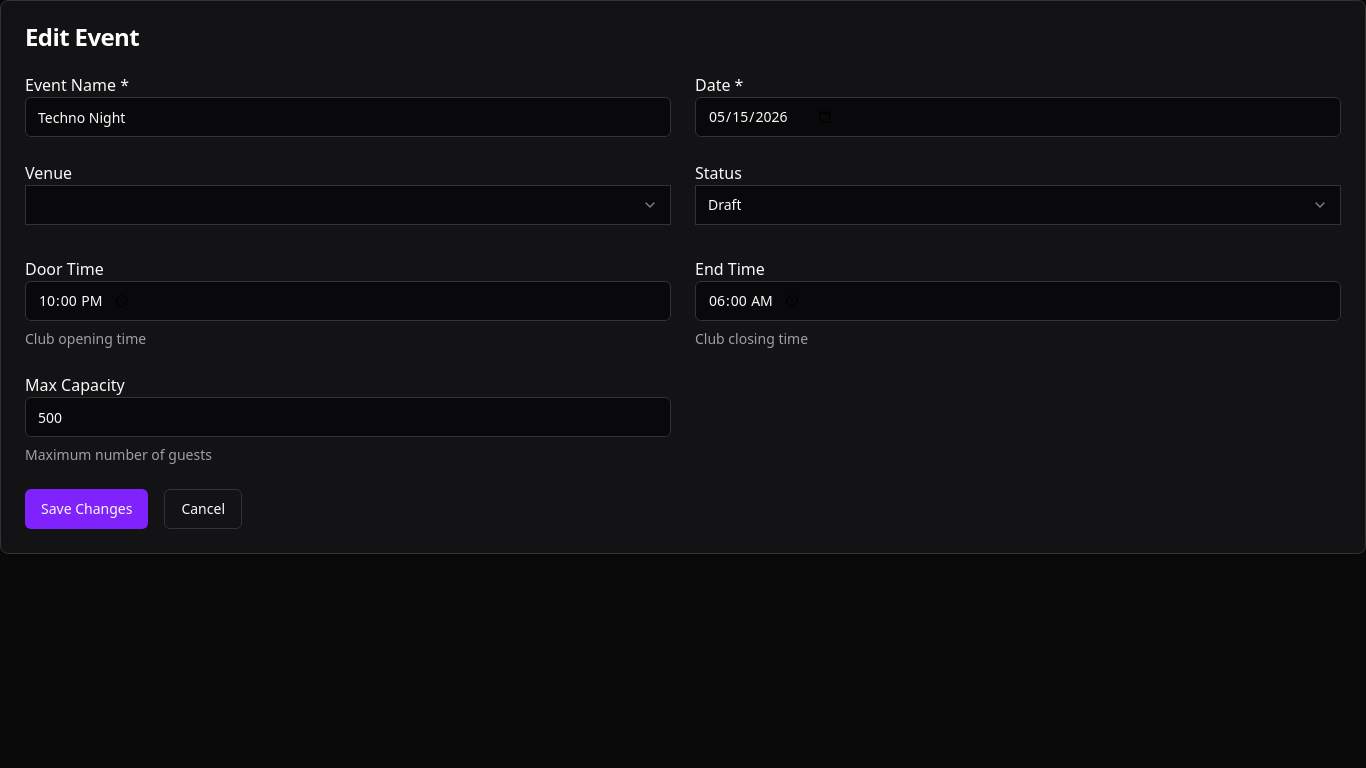
EventForm Edit Mode › shows validation error when name is empty
Clear the field showing "Techno Night" at (348, 117), box [25, 97, 671, 137]
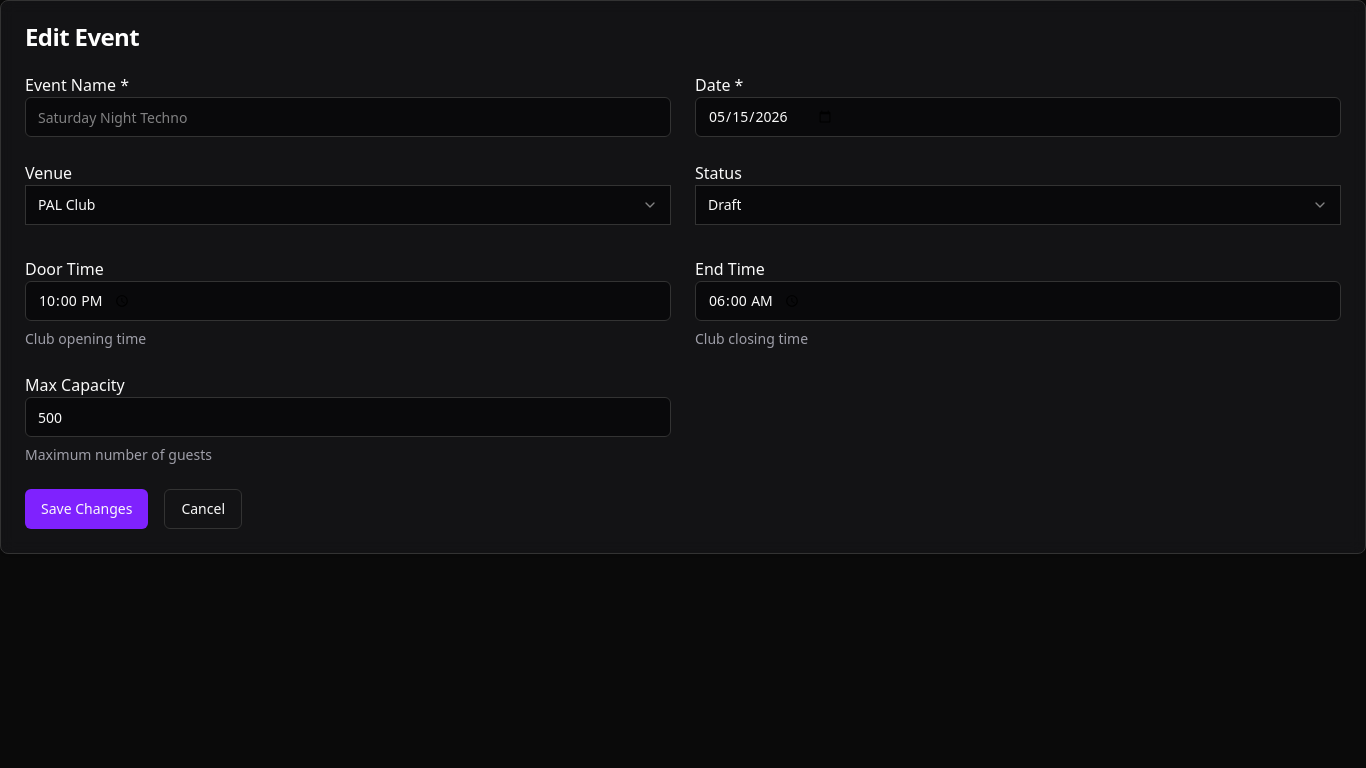
Click the button "Save Changes" at (87, 509), box [25, 489, 148, 529]
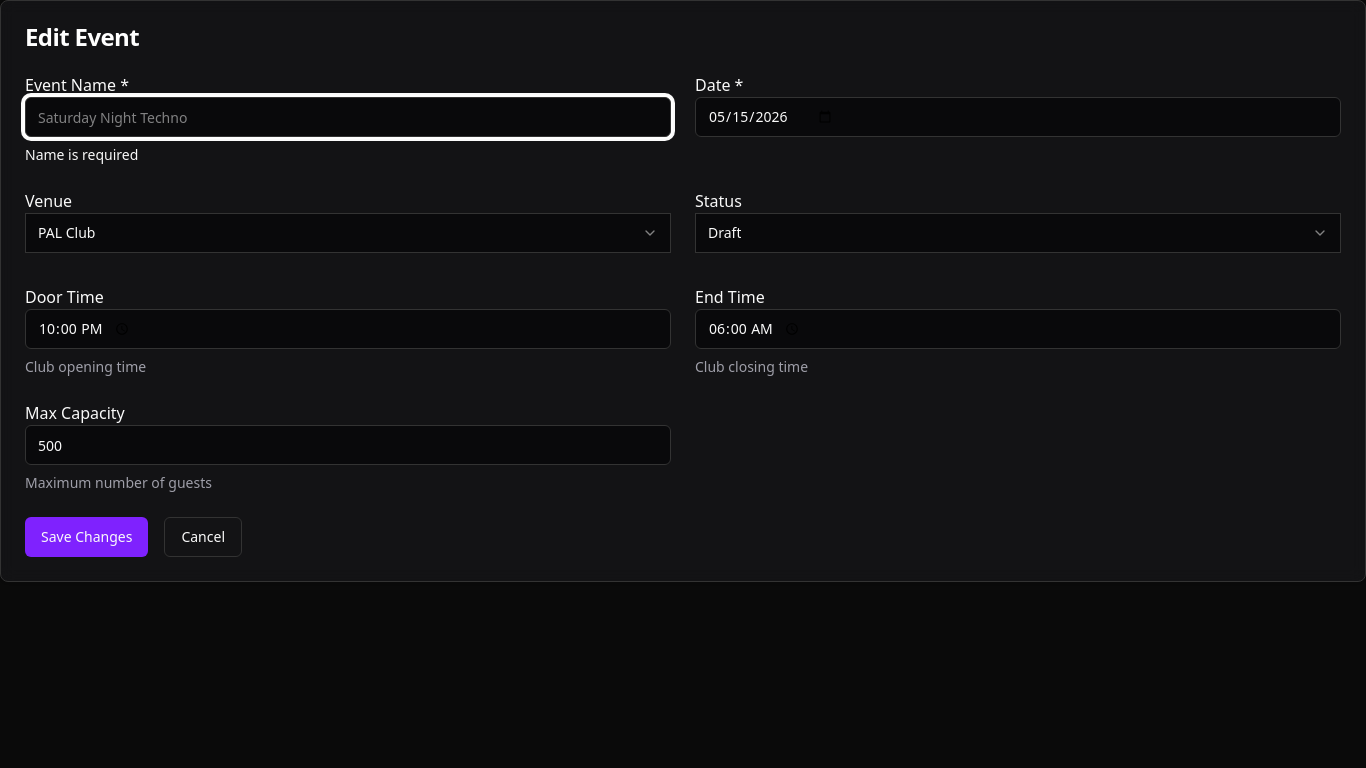
Now the text "Name is required" is shown, box [25, 145, 138, 164]
